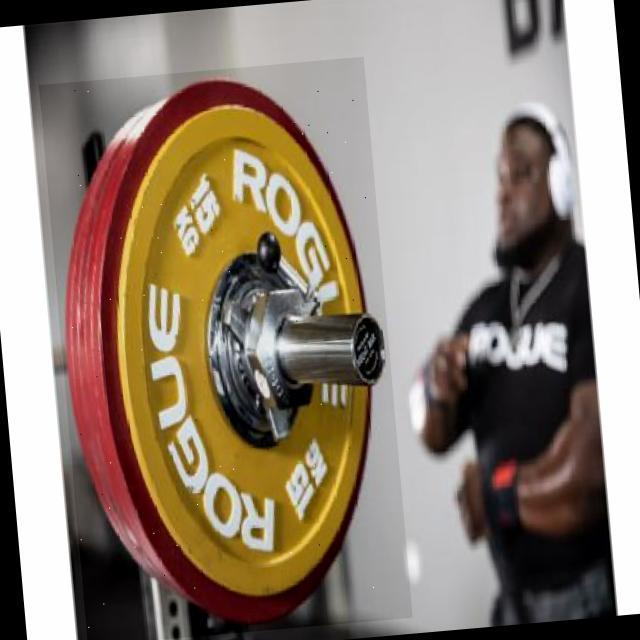barbell: (39, 57, 413, 640)
